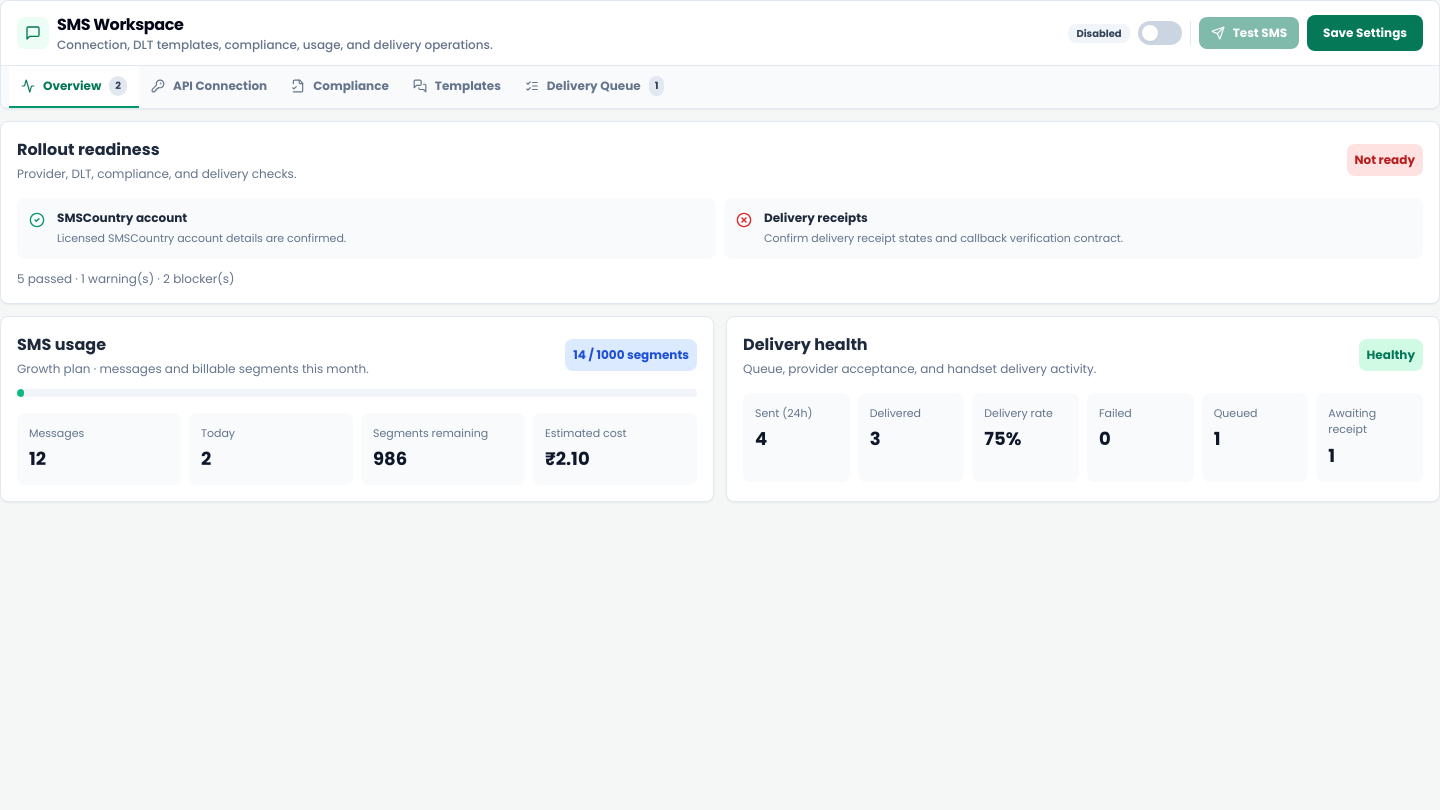
Test: SmsIntegrationSettings › organizes current SMS operations into workspace tabs
Expected: the element named "SMS workspace sections" is shown, [1, 65, 1439, 108]
Expected: the tab "API Connection" is shown, [139, 66, 279, 108]
Click the tab "Delivery Queue 1": (595, 87) [513, 66, 676, 108]
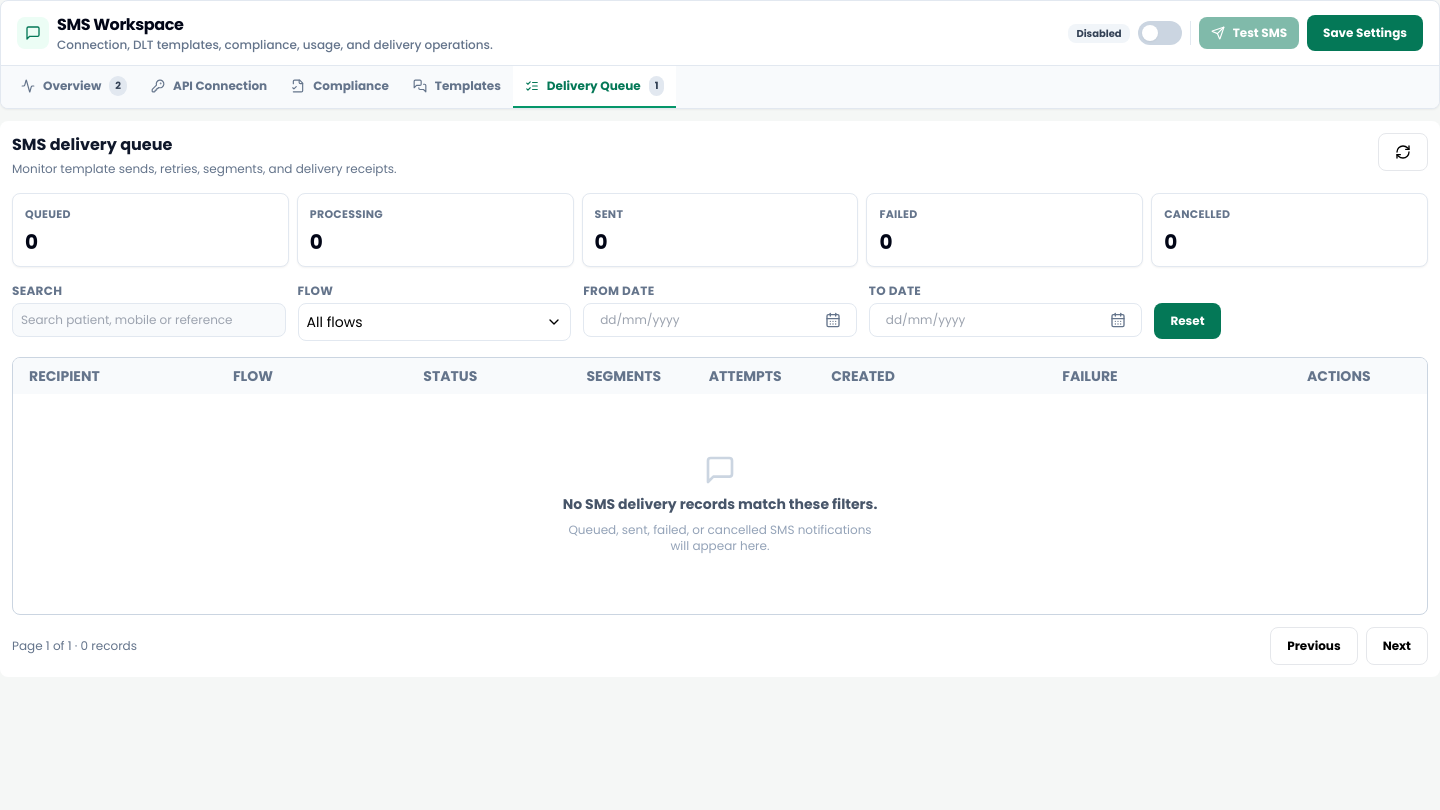
Result: the heading "SMS delivery queue" is shown at [12, 133, 172, 156]
